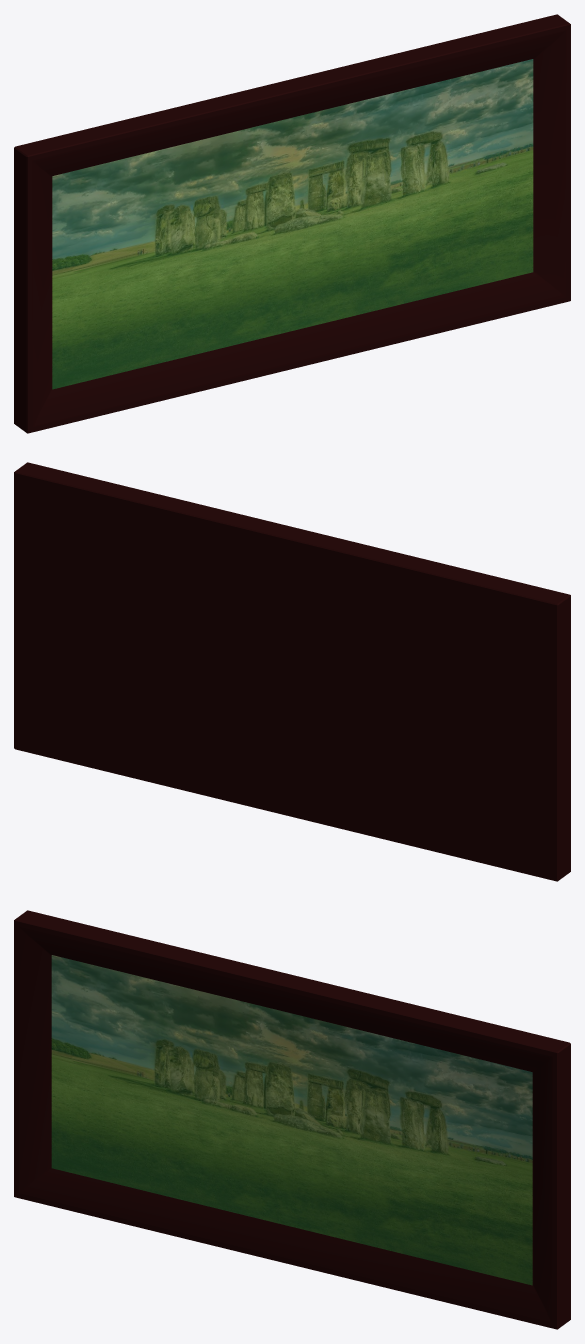
Rendered from aws_PortraitD_01_visual.DAE.
3 views of the same model, one above another, from view 1: azimuth 30°, elevation 25°; view 2: azimuth 150°, elevation 25°; view 3: azimuth 330°, elevation 25° (orthographic).
Visible parts, largest first — view 1: aws_PortraitD_01_visual; view 2: aws_PortraitD_01_visual; view 3: aws_PortraitD_01_visual.
Part boxes in pixels (box(x1,y1,x2,y2)): aws_PortraitD_01_visual: box(14, 14, 570, 433); aws_PortraitD_01_visual: box(14, 462, 570, 881); aws_PortraitD_01_visual: box(14, 910, 570, 1329).
Size of the model in its own units: 101 by 4.39 by 49.04.
Materials: 2 (2 with a texture image).
